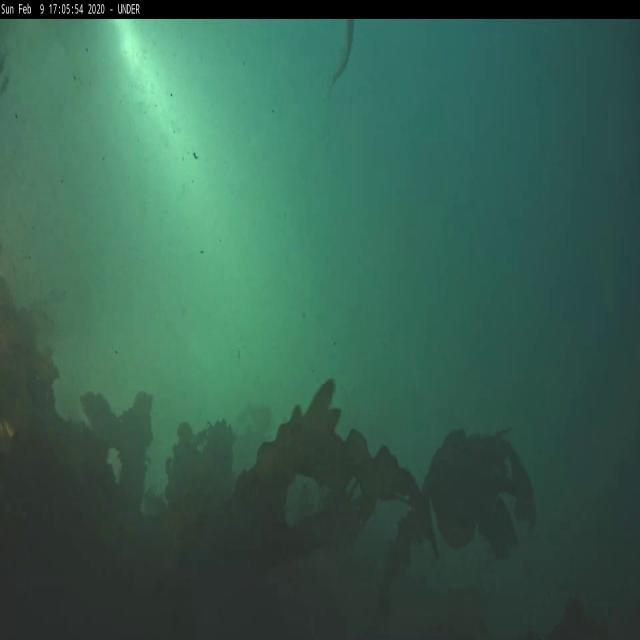fish: (330, 19, 356, 92)
